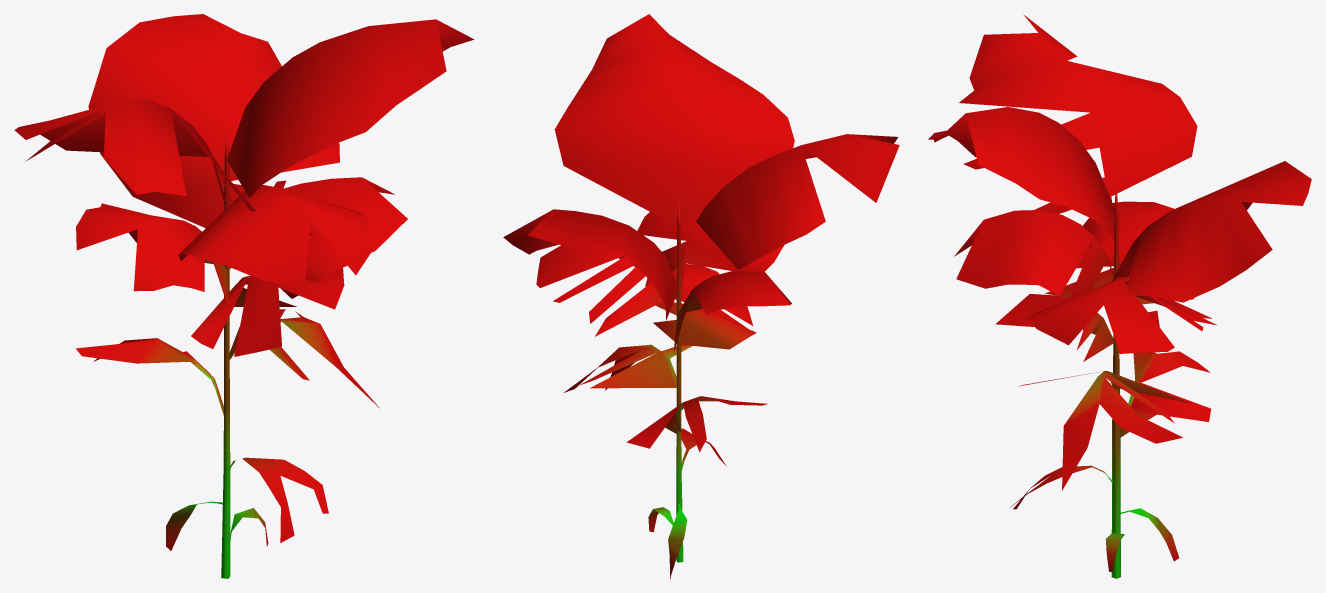
Rendered from Cane Palm_LOD1_Var1_siBmK.fbx.
3 views of the same model, side by side, from view 1: azimuth 30°, elevation 25°; view 2: azimuth 150°, elevation 25°; view 3: azimuth 270°, elevation 25° (orthographic). The views are drawn at different scales.
Parts seen in each view (by area): view 1: _b06d_Var1_LOD1; view 2: _b06d_Var1_LOD1; view 3: _b06d_Var1_LOD1.
Part boxes in pixels (x1,y1,x2,y2): _b06d_Var1_LOD1: [14, 14, 474, 578]; _b06d_Var1_LOD1: [503, 14, 899, 578]; _b06d_Var1_LOD1: [928, 14, 1311, 578].
Size of the model in its own units: 30.65 by 43.7 by 29.4.
